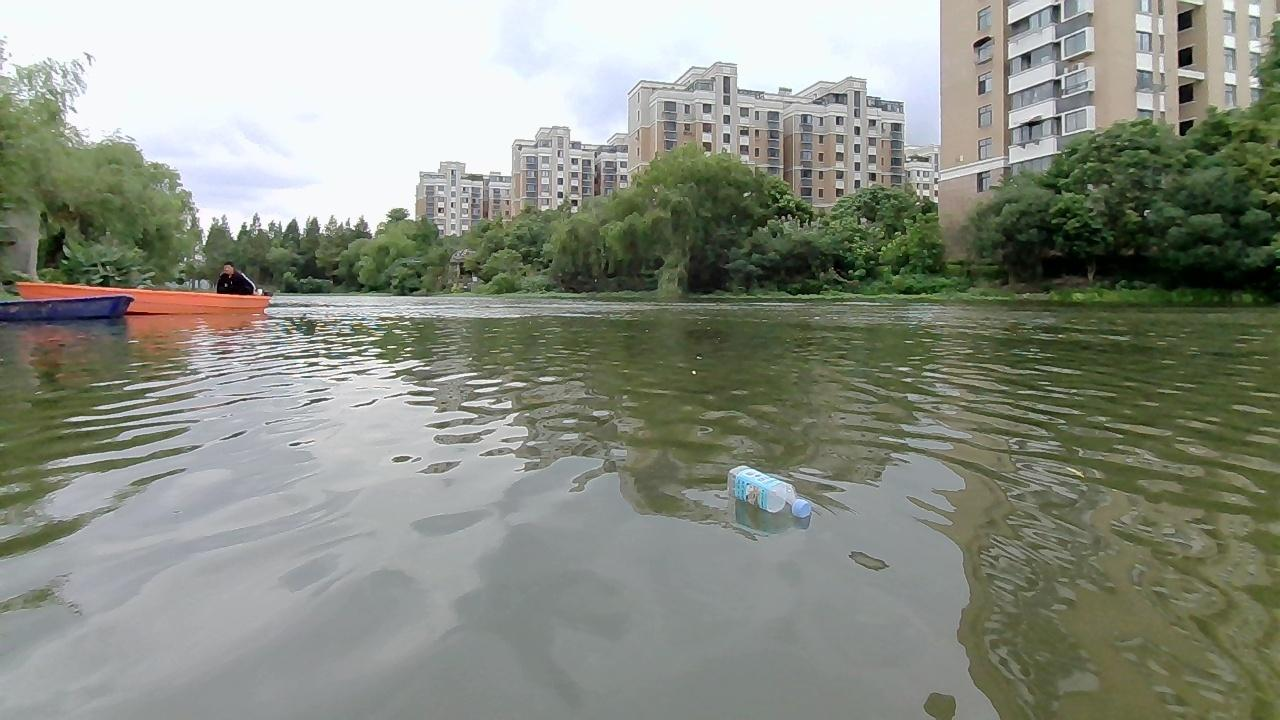bottle: (726, 461, 812, 519)
